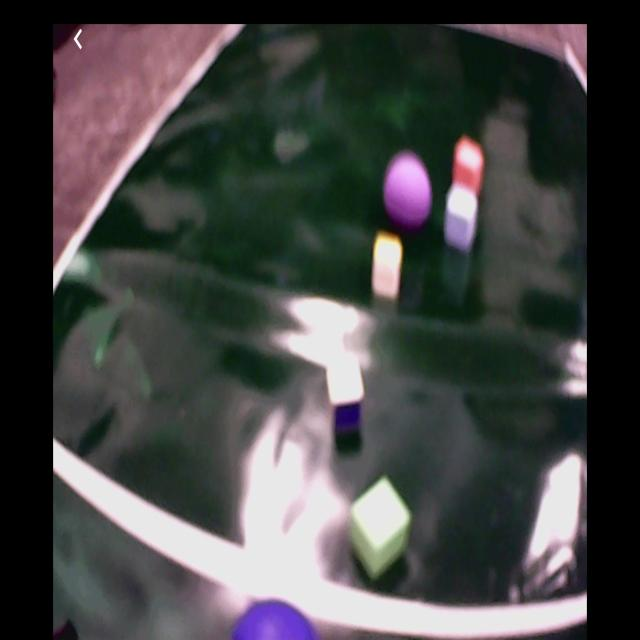ball: (385, 152, 433, 231), (234, 598, 315, 640)
